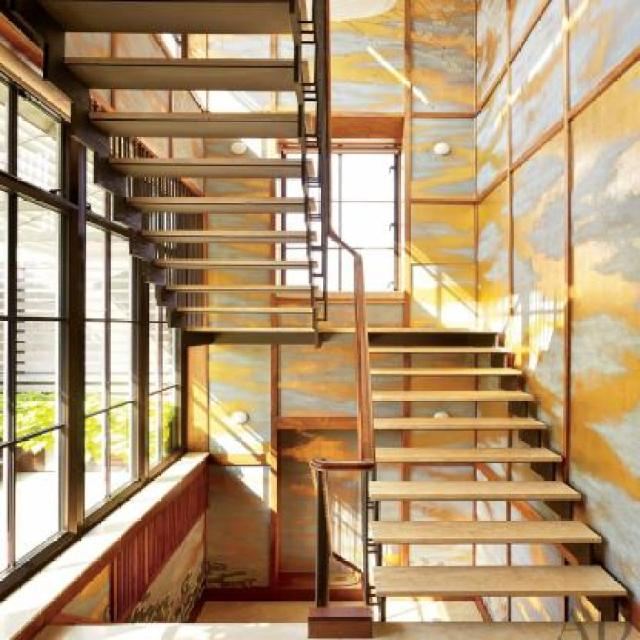stair: (286, 298, 640, 633), (24, 7, 342, 339)
